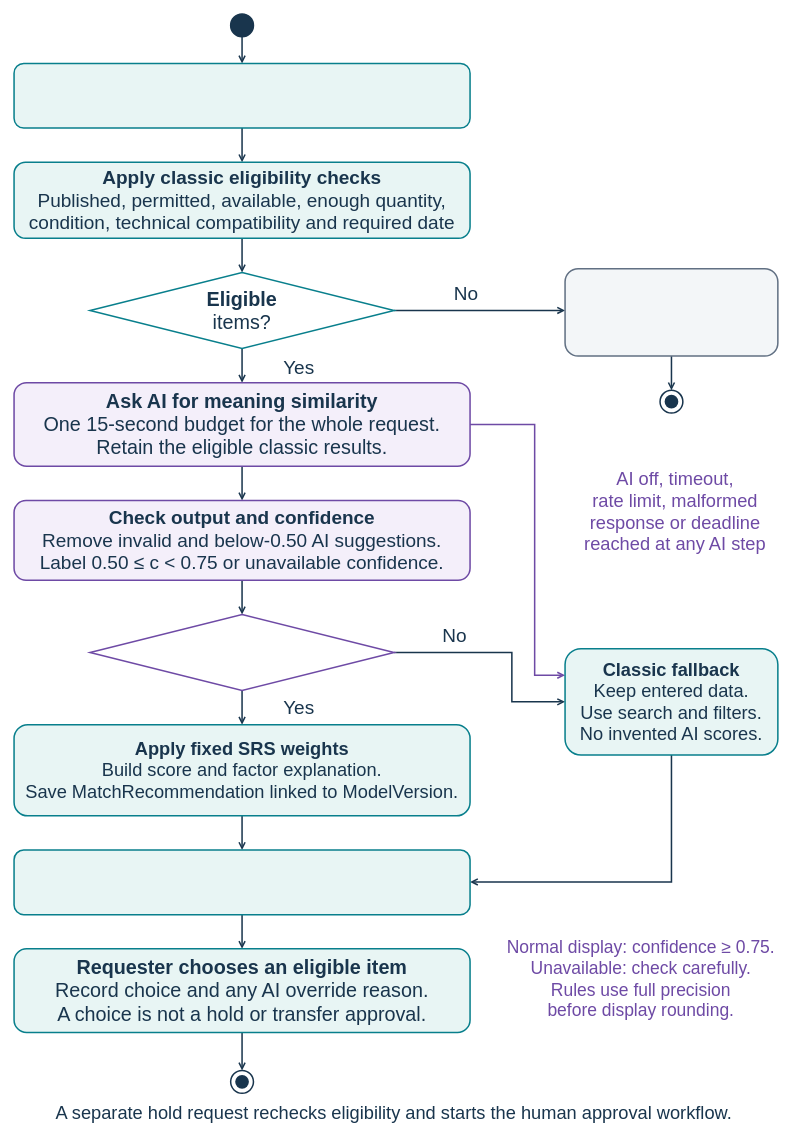
The diagram is 806 pixels wide and 1138 high, and some of its shapes have lost their labels. The centre of each missing label's shape, as x and y in pixels:
Requester asks for matches Check access and approved ResourceRequest: pixel 241 95
Show no match Explain missing checks. User decides next step.: pixel 671 312
Show results and limitations Score and confidence are separate.: pixel 241 882
Usable AI matches?: pixel 241 652
